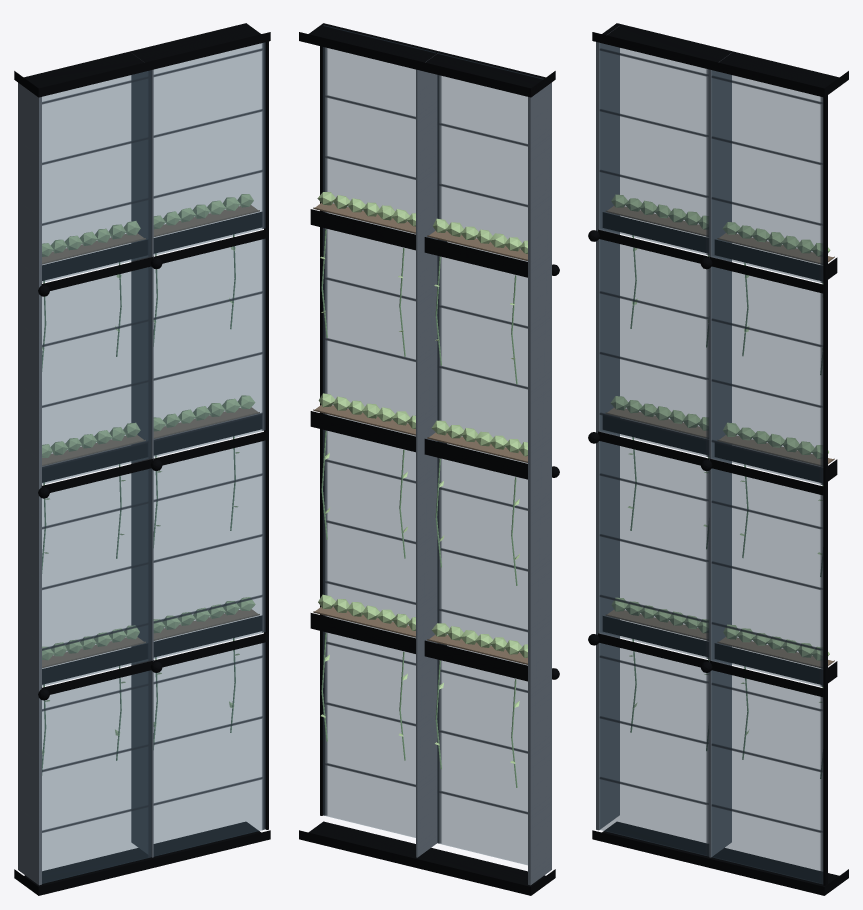
3 views of the same model, side by side, from view 1: azimuth 30°, elevation 25°; view 2: azimuth 150°, elevation 25°; view 3: azimuth 330°, elevation 25° (orthographic).
Parts seen in each view (by area): view 1: Fin_Plates, Glass_Pane_12, Glass_Pane_11, Glass_Pane_01, Glass_Pane_02, Glass_Pane_10, Glass_Pane_13, Glass_Pane_00, Glass_Pane_03, Planter_Trough, Foliage, Transoms (+6 smaller); view 2: Fin_Plates, Glass_Pane_10, Glass_Pane_00, Glass_Pane_12, Glass_Pane_11, Glass_Pane_02, Glass_Pane_01, Glass_Pane_13, Glass_Pane_03, Planter_Trough, Foliage, Head_Track (+4 smaller); view 3: Fin_Plates, Glass_Pane_11, Glass_Pane_12, Glass_Pane_02, Glass_Pane_01, Glass_Pane_10, Glass_Pane_13, Glass_Pane_00, Glass_Pane_03, Planter_Trough, Foliage, Transoms (+6 smaller).
Boxes of the visible parts, left/top/right/bottom form: Fin_Plates: left=18, top=53, right=153, bottom=885; Glass_Pane_12: left=153, top=238, right=265, bottom=457; Glass_Pane_11: left=153, top=440, right=265, bottom=658; Glass_Pane_01: left=42, top=468, right=151, bottom=686; Glass_Pane_02: left=42, top=266, right=151, bottom=484; Glass_Pane_10: left=153, top=642, right=265, bottom=856; Glass_Pane_13: left=153, top=42, right=265, bottom=255; Glass_Pane_00: left=42, top=670, right=151, bottom=883; Glass_Pane_03: left=42, top=70, right=151, bottom=282; Planter_Trough: left=42, top=212, right=262, bottom=684; Foliage: left=42, top=194, right=255, bottom=660; Transoms: left=41, top=229, right=267, bottom=694; Fin_Plates: left=416, top=53, right=551, bottom=885; Glass_Pane_10: left=323, top=631, right=415, bottom=837; Glass_Pane_00: left=437, top=659, right=527, bottom=864; Glass_Pane_12: left=323, top=228, right=415, bottom=436; Glass_Pane_11: left=323, top=429, right=415, bottom=637; Glass_Pane_02: left=437, top=255, right=527, bottom=463; Glass_Pane_01: left=437, top=457, right=527, bottom=665; Glass_Pane_13: left=323, top=25, right=435, bottom=234; Glass_Pane_03: left=437, top=53, right=542, bottom=261; Planter_Trough: left=310, top=209, right=527, bottom=681; Foliage: left=317, top=192, right=527, bottom=657; Head_Track: left=299, top=23, right=555, bottom=97; Fin_Plates: left=596, top=26, right=731, bottom=857; Glass_Pane_11: left=711, top=468, right=823, bottom=686; Glass_Pane_12: left=711, top=267, right=823, bottom=485; Glass_Pane_02: left=599, top=239, right=709, bottom=457; Glass_Pane_01: left=599, top=441, right=709, bottom=659; Glass_Pane_10: left=711, top=670, right=823, bottom=884; Glass_Pane_13: left=711, top=70, right=823, bottom=283; Glass_Pane_00: left=599, top=643, right=709, bottom=856; Glass_Pane_03: left=599, top=43, right=709, bottom=255; Planter_Trough: left=602, top=212, right=837, bottom=684; Foliage: left=611, top=194, right=830, bottom=660; Transoms: left=598, top=229, right=823, bottom=697.
Size of the model in its own units: 4.03 by 13.3 by 0.876.
6 materials, 3 textured.
